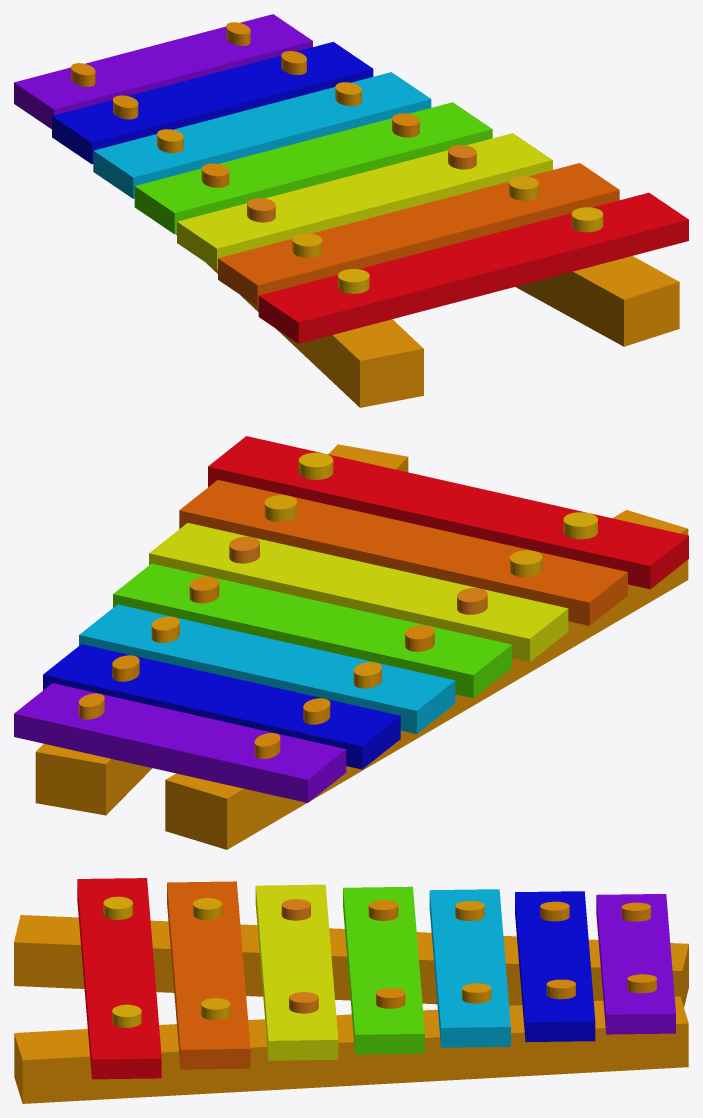
The model's file is Xylophone.fbx.
3 renders of one model, top to bottom at view 1: azimuth 30°, elevation 25°; view 2: azimuth 150°, elevation 25°; view 3: azimuth 270°, elevation 25°, orthographic. The views are drawn at different scales.
Parts seen in each view (by area): view 1: XyloA, XyloB, XyloC, Base, XyloD, XyloE, XyloF, XyloG; view 2: XyloA, XyloB, XyloC, XyloG, Base, XyloD, XyloE, XyloF; view 3: Base, XyloA, XyloB, XyloC, XyloD, XyloE, XyloF, XyloG.
Part boxes in pixels (x1,y1,x2,y2): XyloA: (258,192,688,343); XyloB: (218,163,619,306); XyloC: (177,133,552,269); Base: (176,234,679,407); XyloD: (134,102,492,234); XyloE: (93,72,431,198); XyloF: (52,42,373,164); XyloG: (14,14,312,129); XyloA: (208,436,688,589); XyloB: (179,480,627,625); XyloC: (149,523,568,662); XyloG: (14,683,346,802); Base: (35,444,688,849); XyloD: (113,563,511,698); XyloE: (79,604,455,734); XyloF: (43,644,400,769); Base: (14,915,688,1103); XyloA: (77,878,161,1079); XyloB: (167,881,250,1069); XyloC: (255,884,338,1060); XyloD: (343,886,424,1054); XyloE: (429,889,510,1047); XyloF: (515,891,595,1042); XyloG: (596,894,675,1034).
Size of the model in its own units: 270 by 53.13 by 424.
